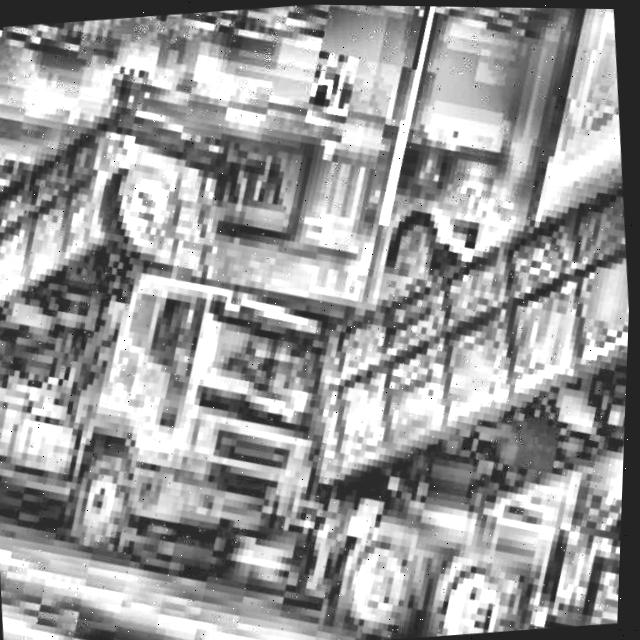dump_truck: (196, 10, 640, 640), (0, 37, 413, 600)
